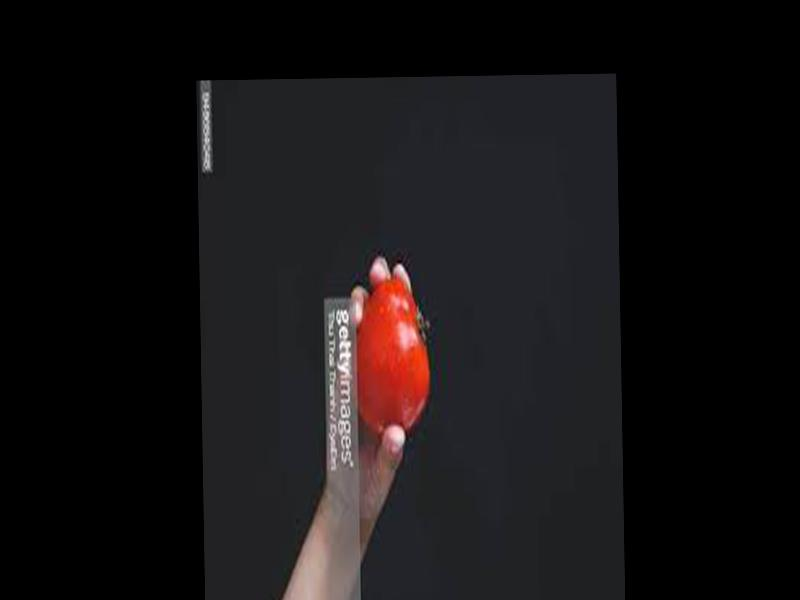Tomato: (351, 272, 430, 430)
